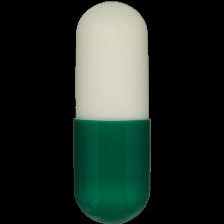68788-0523: (0, 0, 224, 224)
